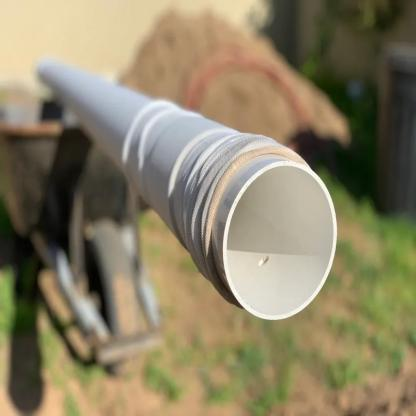PVC: (37, 55, 338, 319)
